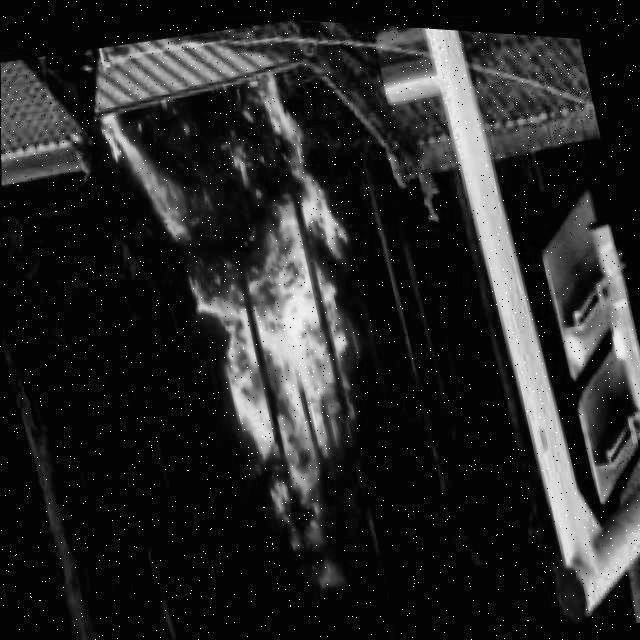Fire: (91, 40, 430, 640)
